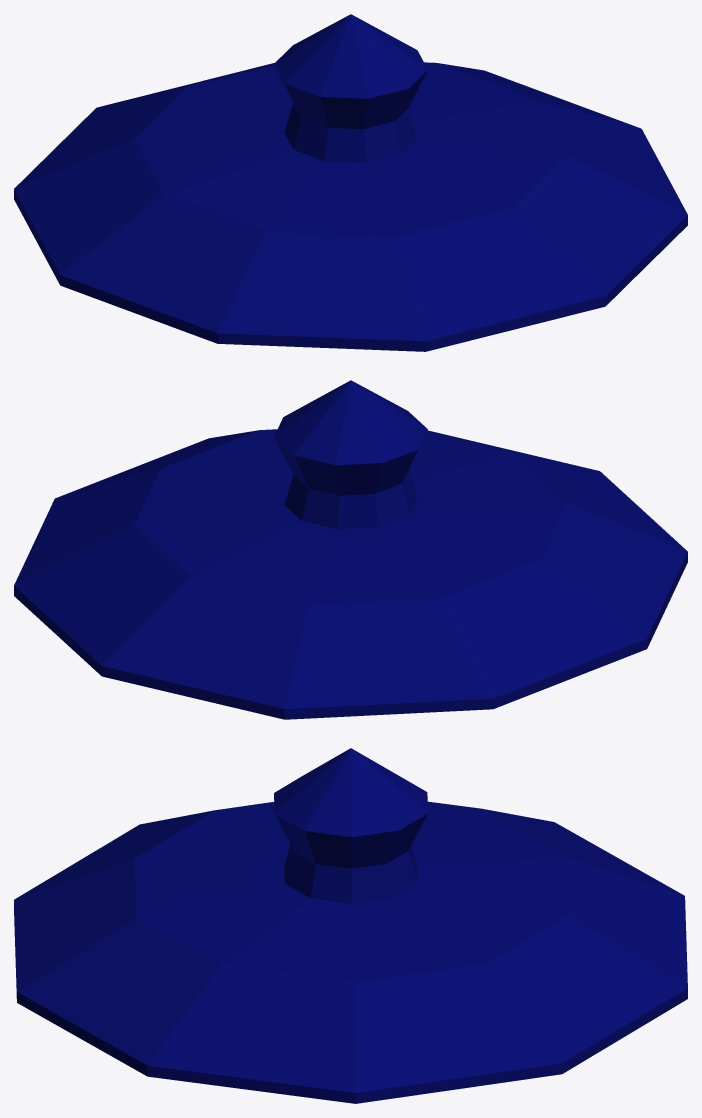
The model's file is tea_cap.fbx.
3 views of the same model, one above another, from view 1: azimuth 30°, elevation 25°; view 2: azimuth 150°, elevation 25°; view 3: azimuth 270°, elevation 25° (orthographic). The views are drawn at different scales.
Parts seen in each view (by area): view 1: cap_tea; view 2: cap_tea; view 3: cap_tea.
Part boxes in pixels (x1=…): cap_tea: x1=14, y1=14, x2=687, y2=351; cap_tea: x1=14, y1=380, x2=687, y2=719; cap_tea: x1=14, y1=748, x2=687, y2=1103.
Size of the model in its own units: 0.3442 by 0.1113 by 0.3288.
